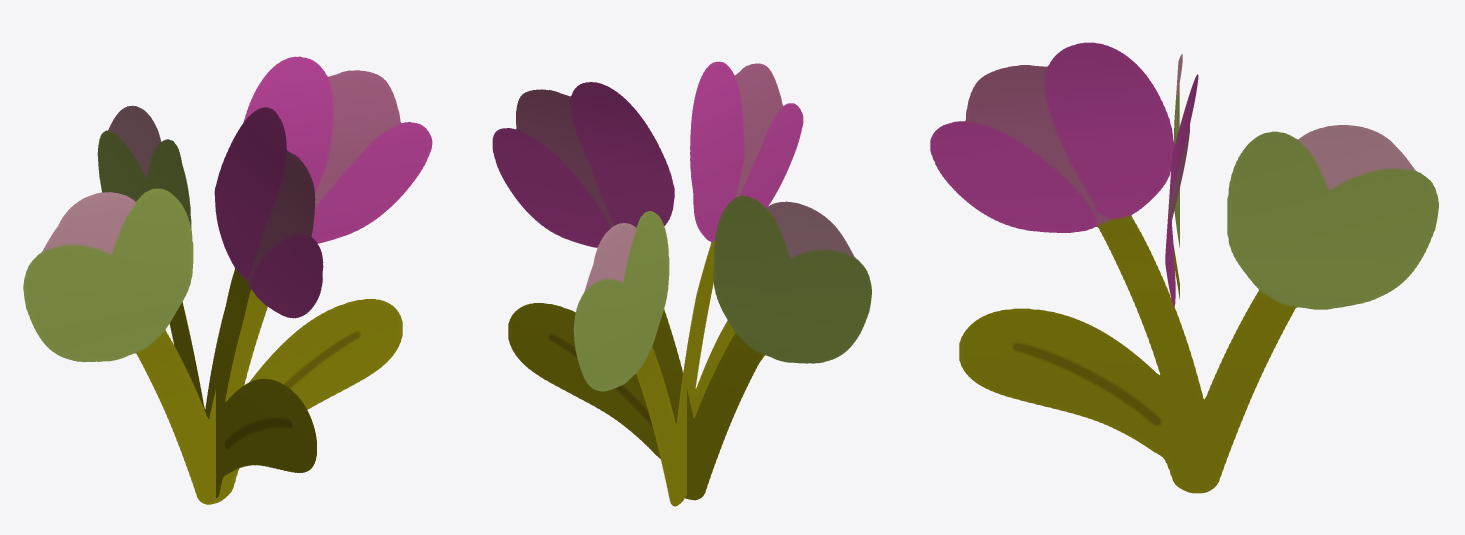
The model's file is TulipsPink.fbx.
3 views of the same model, side by side, from view 1: azimuth 30°, elevation 25°; view 2: azimuth 150°, elevation 25°; view 3: azimuth 270°, elevation 25° (orthographic). The views are drawn at different scales.
Parts seen in each view (by area): view 1: pinkTulip1, pinkTulip2; view 2: pinkTulip1, pinkTulip2; view 3: pinkTulip2, pinkTulip1.
Boxes of the visible parts, box(x1,y1,x2,y2) form: pinkTulip1: box(23, 56, 432, 504); pinkTulip2: box(97, 105, 323, 498); pinkTulip1: box(492, 82, 871, 500); pinkTulip2: box(573, 61, 803, 506); pinkTulip2: box(930, 42, 1438, 493); pinkTulip1: box(1165, 54, 1198, 306).
Size of the model in its own units: 1 by 1.01 by 1.
